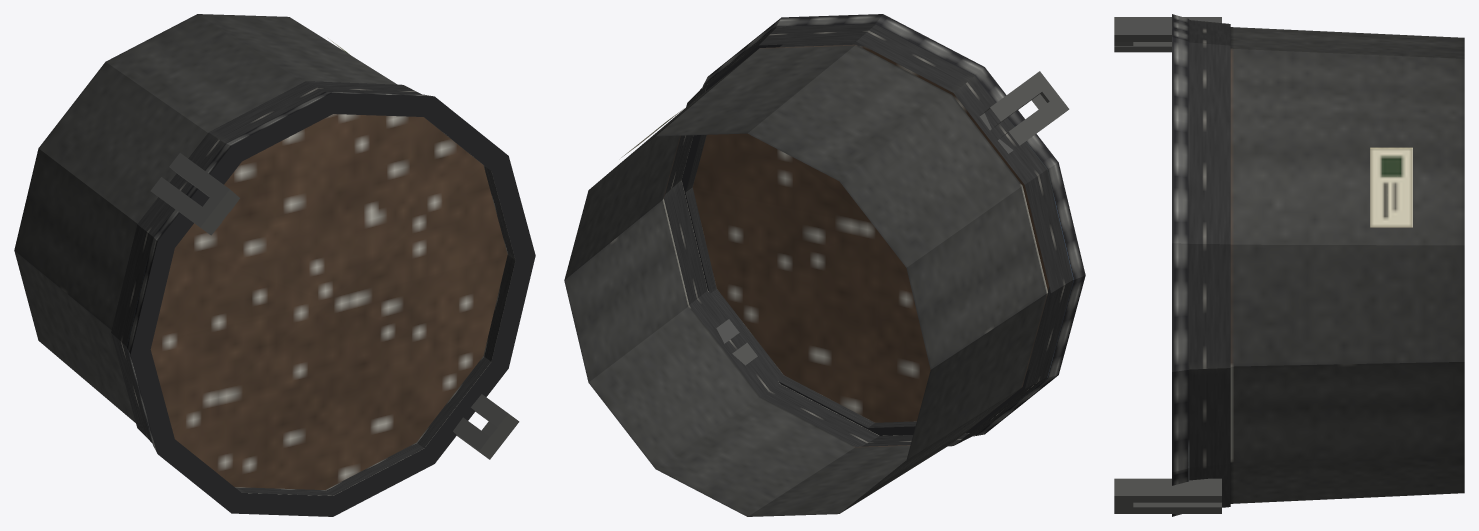
Rendered from pot_bag_s_soil.obj.
3 views of the same model, side by side, from view 1: azimuth 30°, elevation 25°; view 2: azimuth 150°, elevation 25°; view 3: azimuth 270°, elevation 25° (orthographic). The views are drawn at different scales.
Bounding box in the file's own units: 0.586 × 0.586 × 0.407.
1 material, 1 textured.
